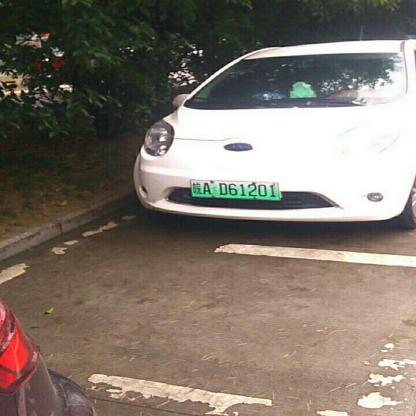lp: (190, 180, 279, 198)
